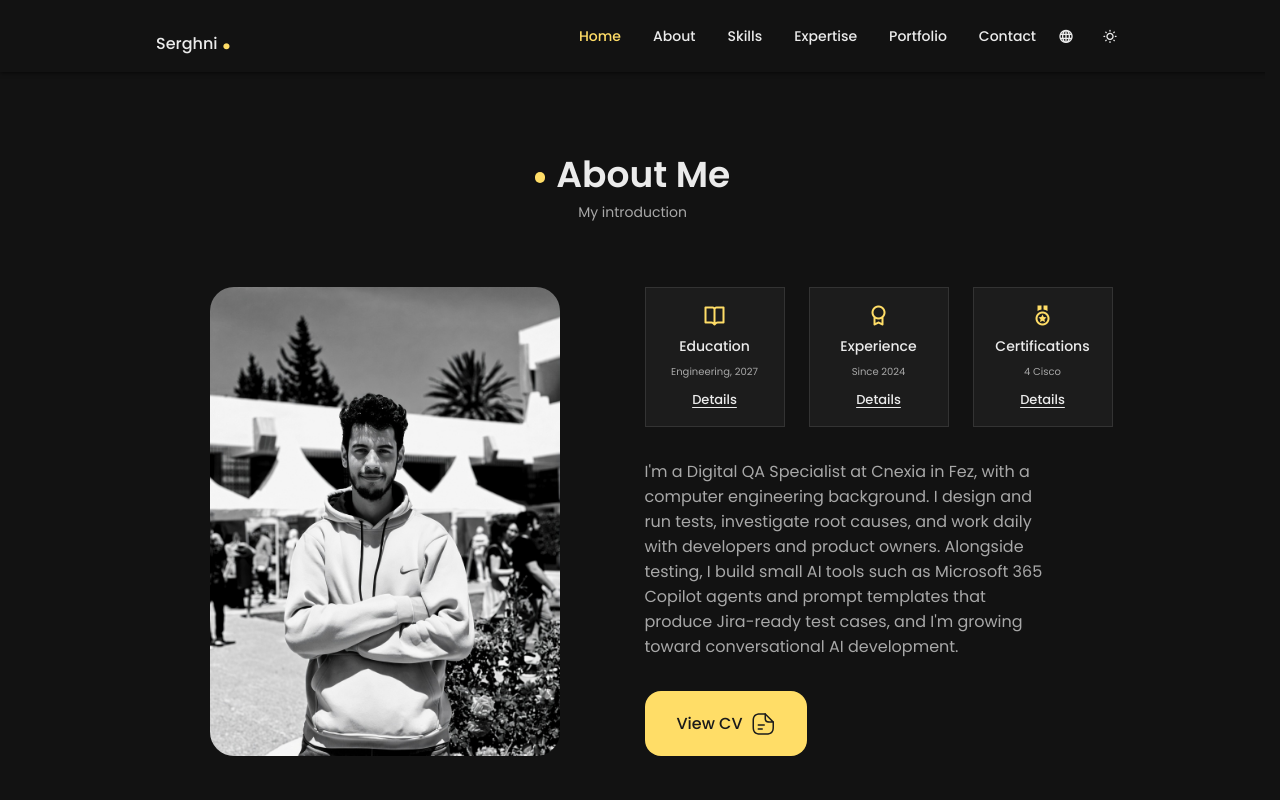
Test: opens CV details from an About box and closes them
(page scrolled)
Click the button with aria-label "experience" at (878, 400), box [856,390,901,410]
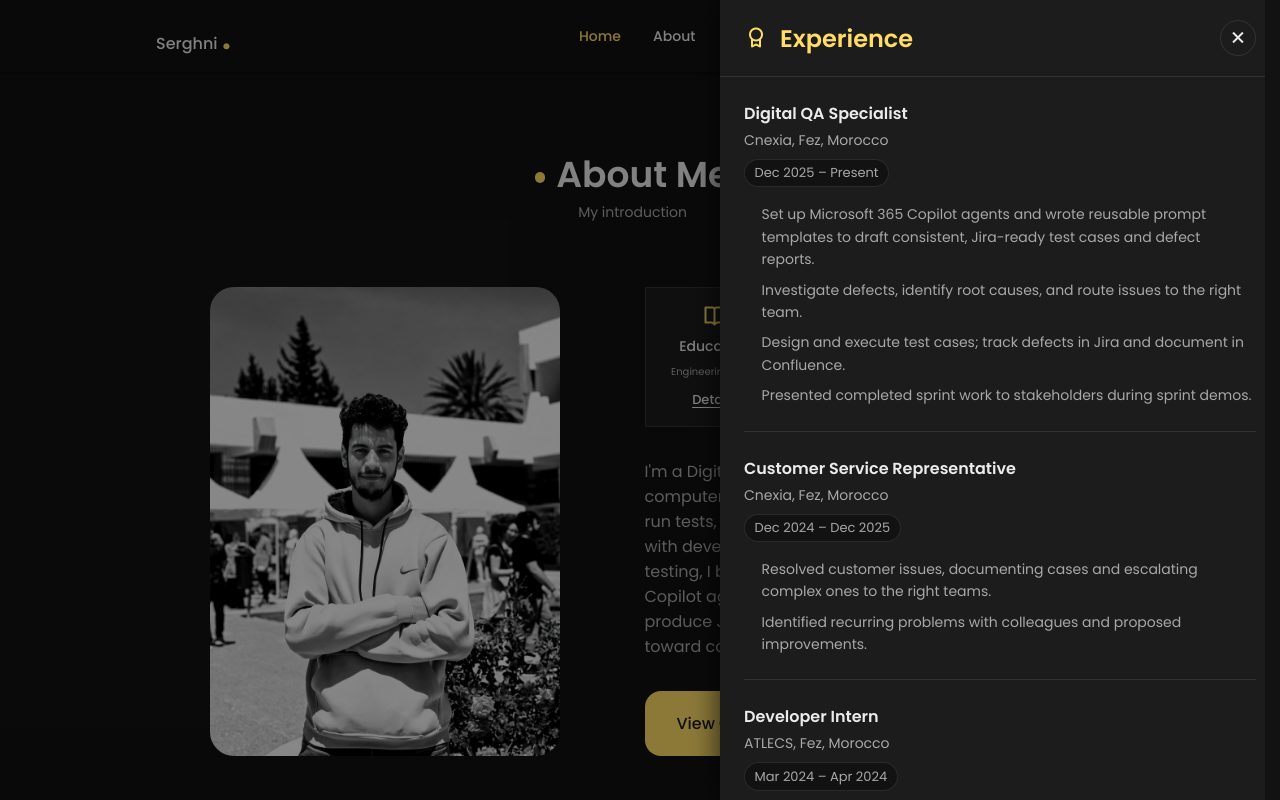
Now the dialog "Experience" shows "Digital QA Specialist", box [744,102,908,125]
Click the button named "Close details" at (1238, 38), box [1220,20,1256,56]
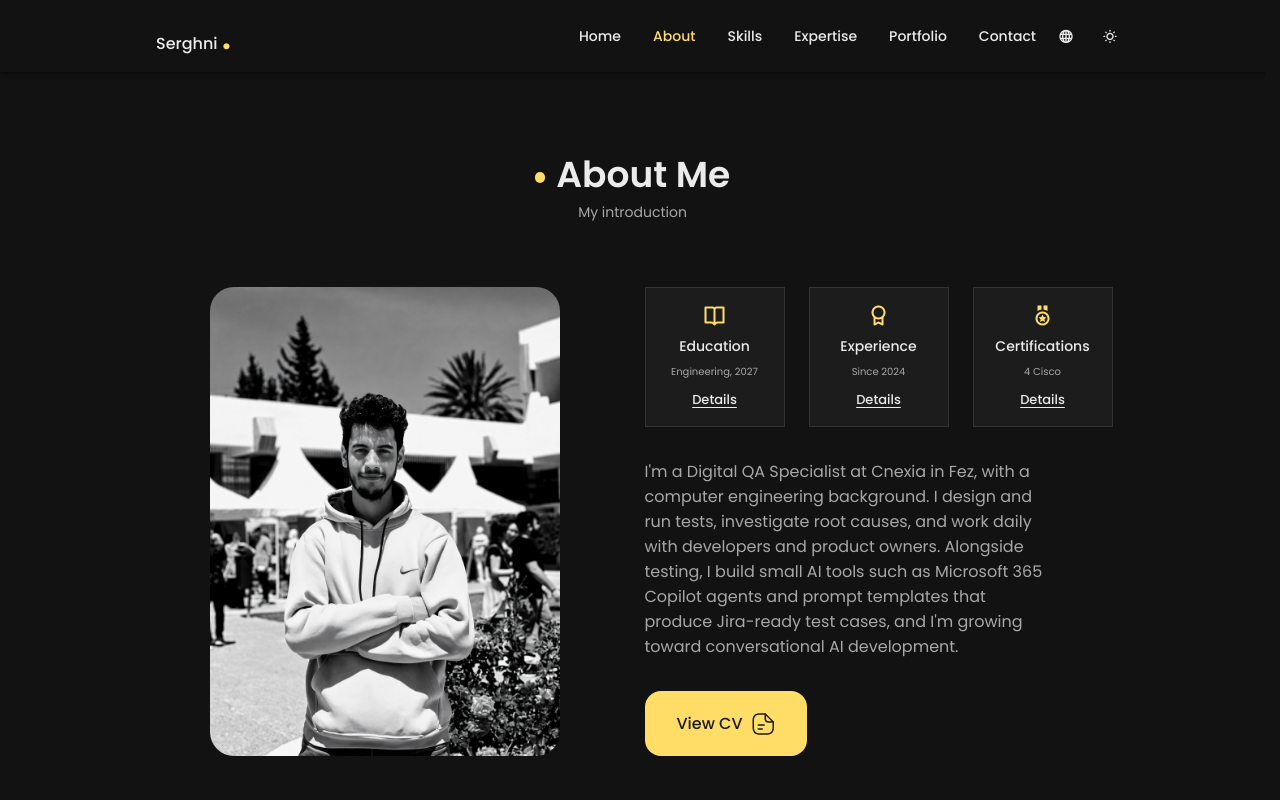
Now the dialog is gone
